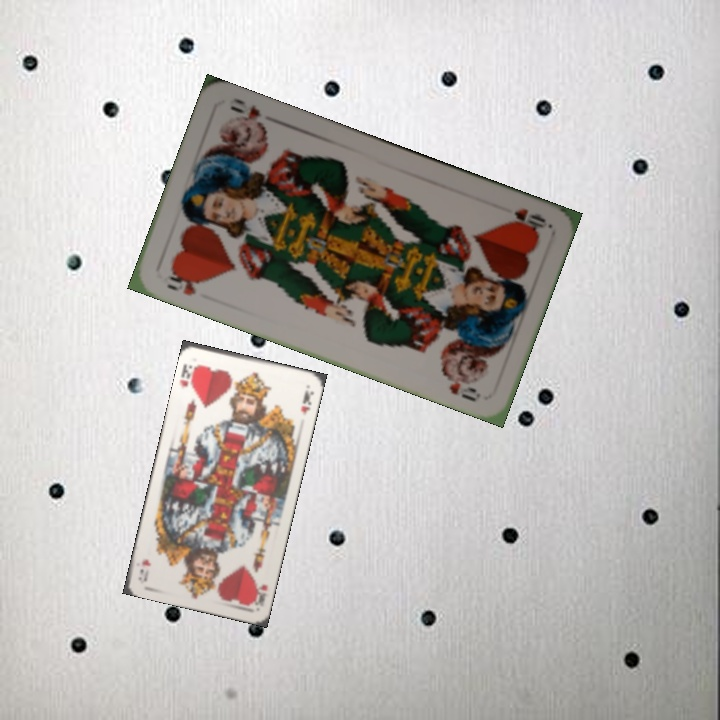HK: (176, 359, 200, 390), (248, 579, 270, 609)
HO: (163, 266, 208, 299), (505, 204, 550, 233)
